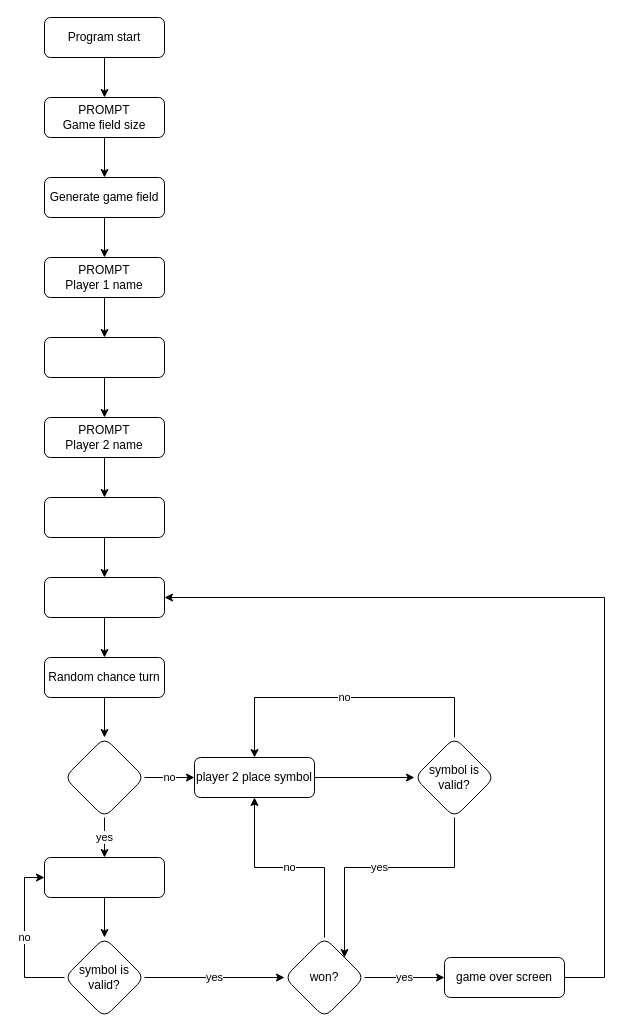
Image size: 630x1035. Some labels were removed from this diagram. The shapes that lost their labels are listed below. From the top down, each one's centre as x and y in pixels, then its label:
pixel 104 357: Create player 1
pixel 104 517: Create player 2
pixel 104 597: Start game loop
pixel 104 777: player1 turn?
pixel 104 877: Player 1 place symbol
